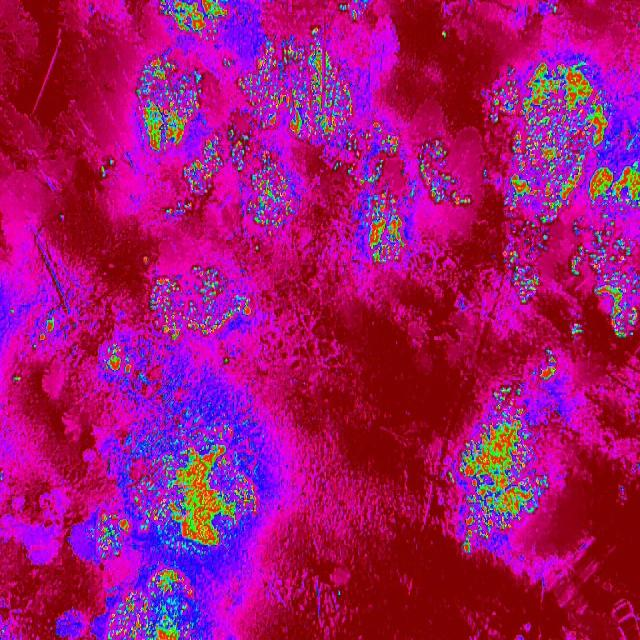fire: (88, 406, 258, 562), (488, 56, 614, 208), (446, 386, 550, 564), (239, 28, 360, 152), (571, 205, 638, 340), (148, 266, 260, 344), (136, 56, 206, 155), (109, 570, 200, 640), (502, 207, 558, 306), (132, 345, 214, 406), (247, 158, 300, 226), (418, 138, 472, 204), (362, 191, 408, 264), (160, 0, 229, 38), (614, 108, 640, 203), (184, 156, 224, 192), (362, 120, 402, 154), (100, 339, 134, 378), (333, 158, 387, 182), (531, 348, 560, 380), (338, 0, 369, 22), (164, 200, 193, 218), (38, 316, 56, 342), (226, 124, 238, 160), (206, 133, 222, 158), (542, 0, 562, 15), (408, 180, 418, 200), (99, 162, 108, 180), (238, 154, 246, 170), (222, 58, 234, 68), (30, 341, 40, 352), (12, 374, 22, 384), (56, 212, 66, 222), (8, 306, 16, 318), (441, 29, 448, 42), (336, 588, 343, 601), (222, 357, 230, 368), (109, 156, 115, 169), (483, 168, 488, 182), (254, 244, 260, 255), (1, 627, 7, 637)
